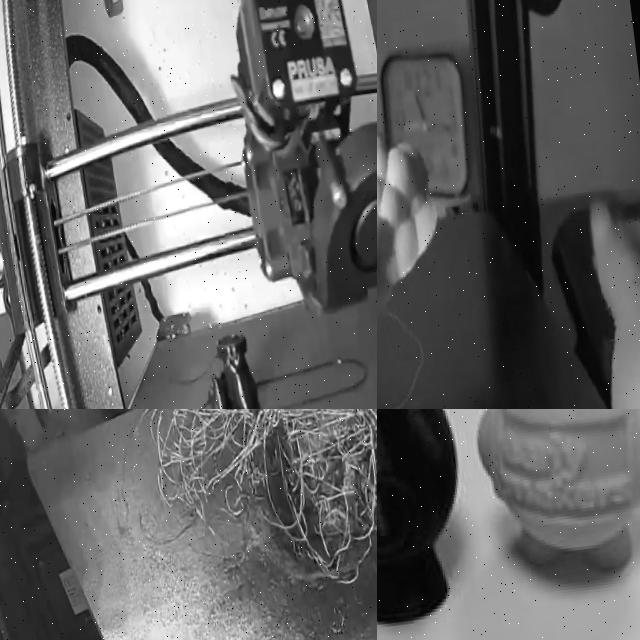spaghetti: (145, 409, 377, 593)
